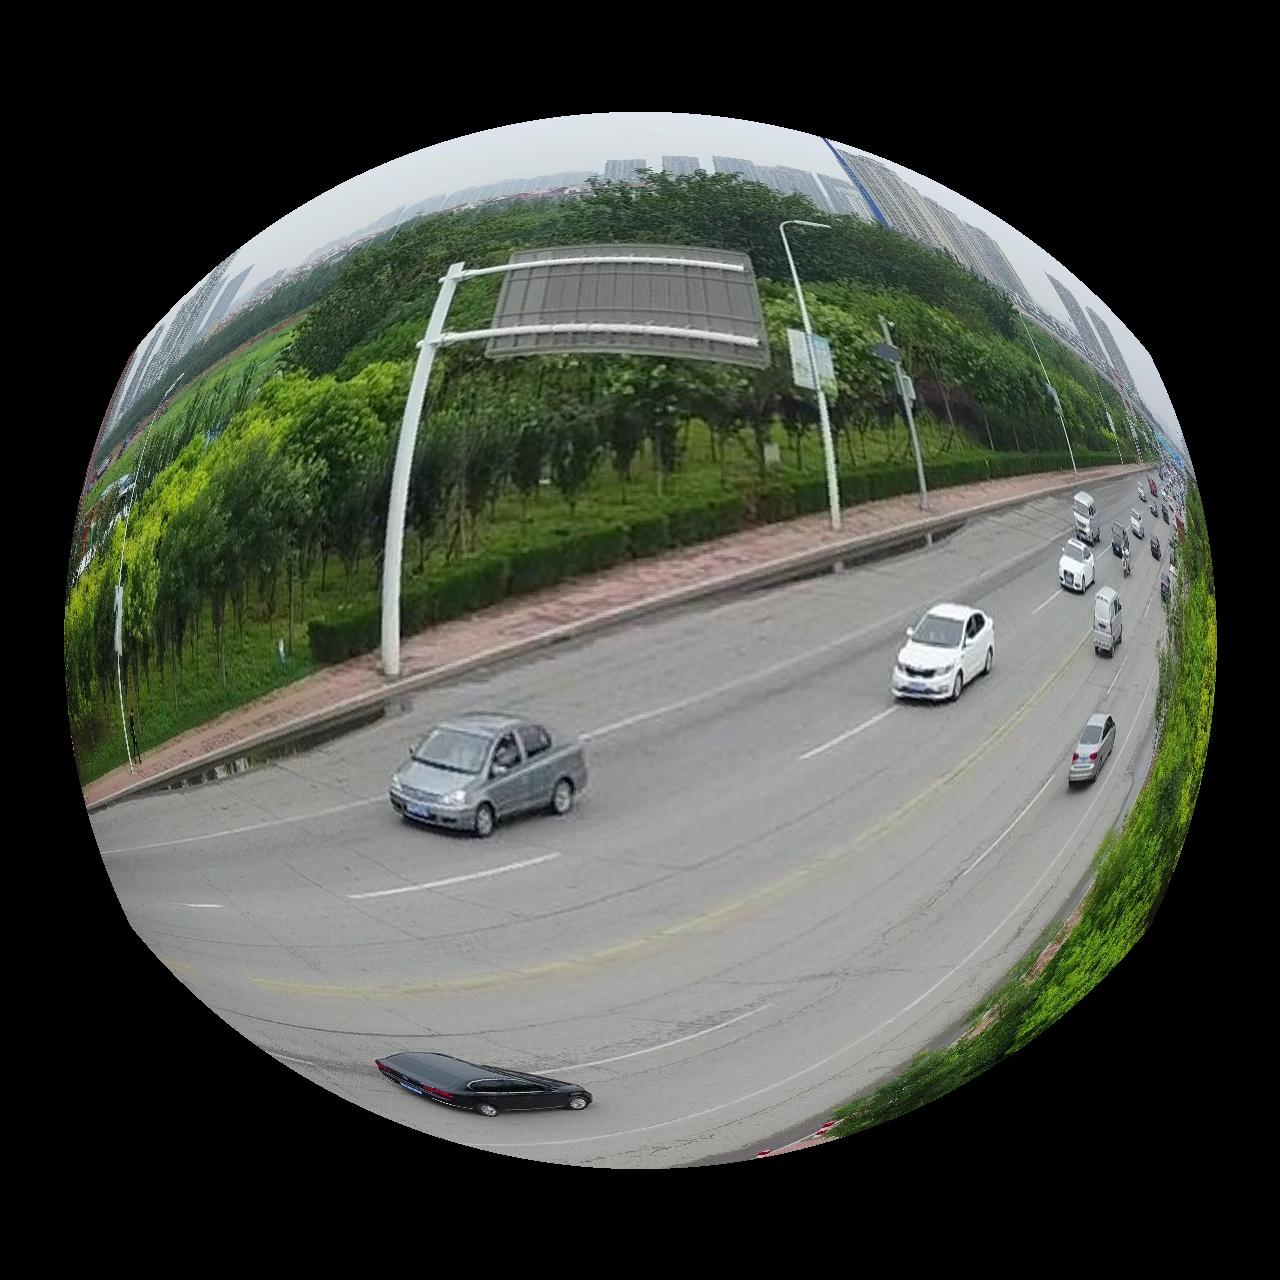cars: (388, 713, 588, 839), (374, 1053, 593, 1119), (892, 602, 998, 701), (1070, 714, 1118, 785), (1096, 586, 1125, 658), (1062, 538, 1097, 593), (1075, 491, 1102, 545)
trees: (833, 479, 1219, 1138), (66, 321, 411, 772), (401, 285, 824, 633), (812, 281, 1063, 504)
